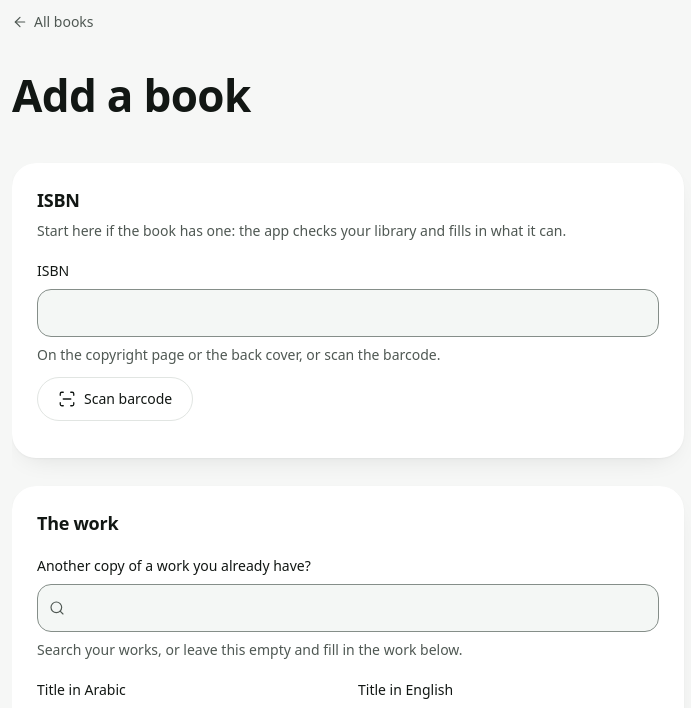
BookFormPage › Filling in from the ISBN › names the ISBN's country when the language comes from it
The image size is (691, 708).
Type "9789933685027" into the field labelled "ISBN".
click(348, 313); type("9789933685027")  # box [37, 289, 659, 337]
(page scrolled)
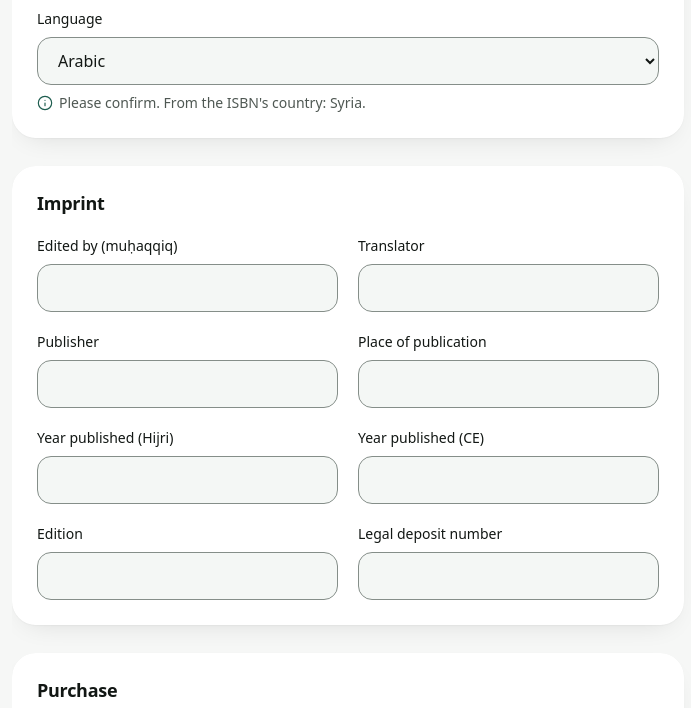
expect the field labelled "Publisher" is empty: met, box [37, 360, 338, 408]
expect the dropdown labelled "Language" shows "Arabic": met, box [37, 37, 659, 85]
